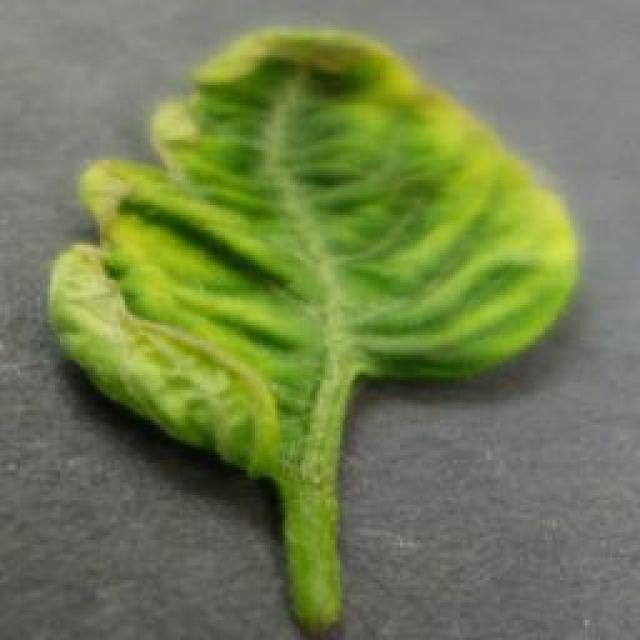Tomato yellow virus leaf: (48, 25, 586, 480)
